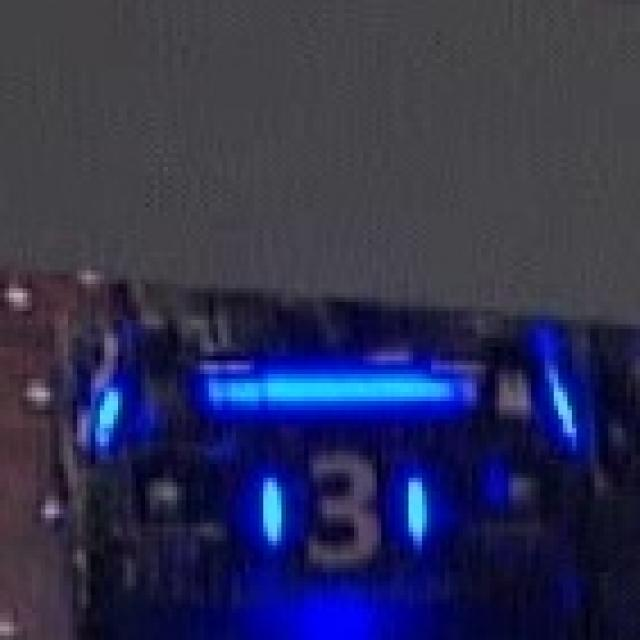B3: (254, 442, 431, 568)
